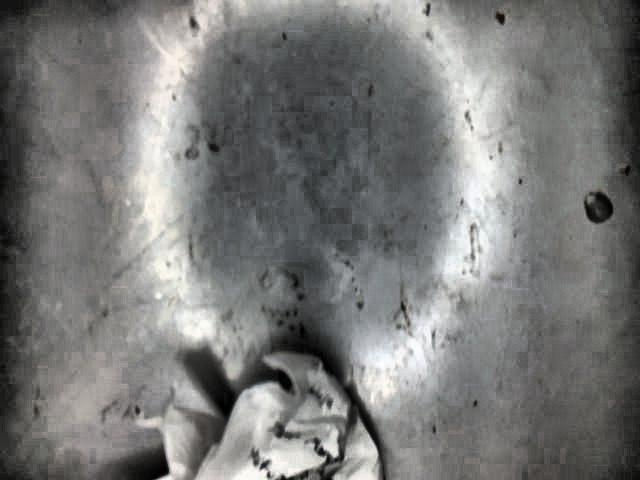Paper: (123, 326, 404, 480)
